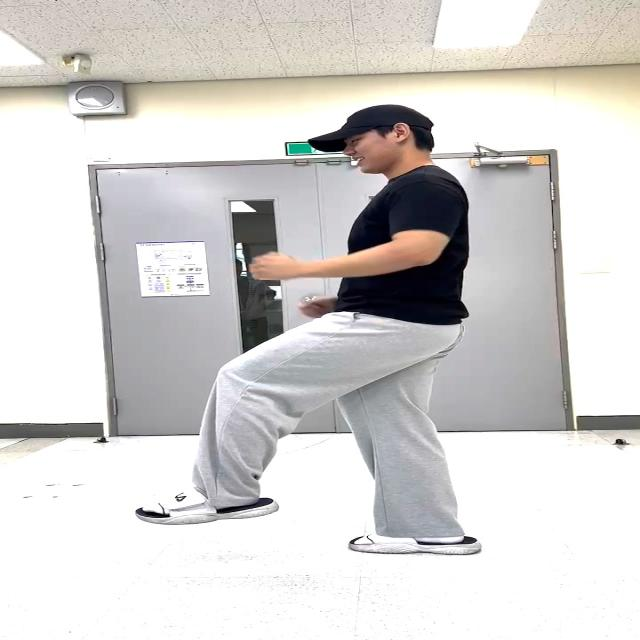leg: (147, 327, 330, 541)
